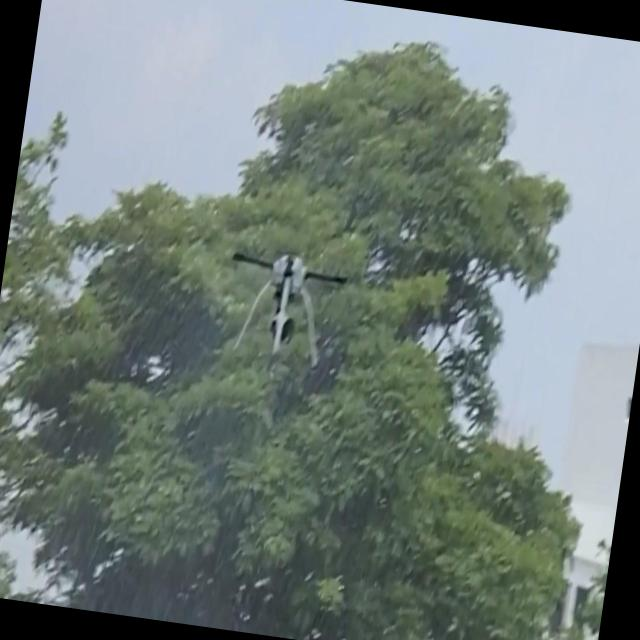drone: (216, 244, 353, 369)
